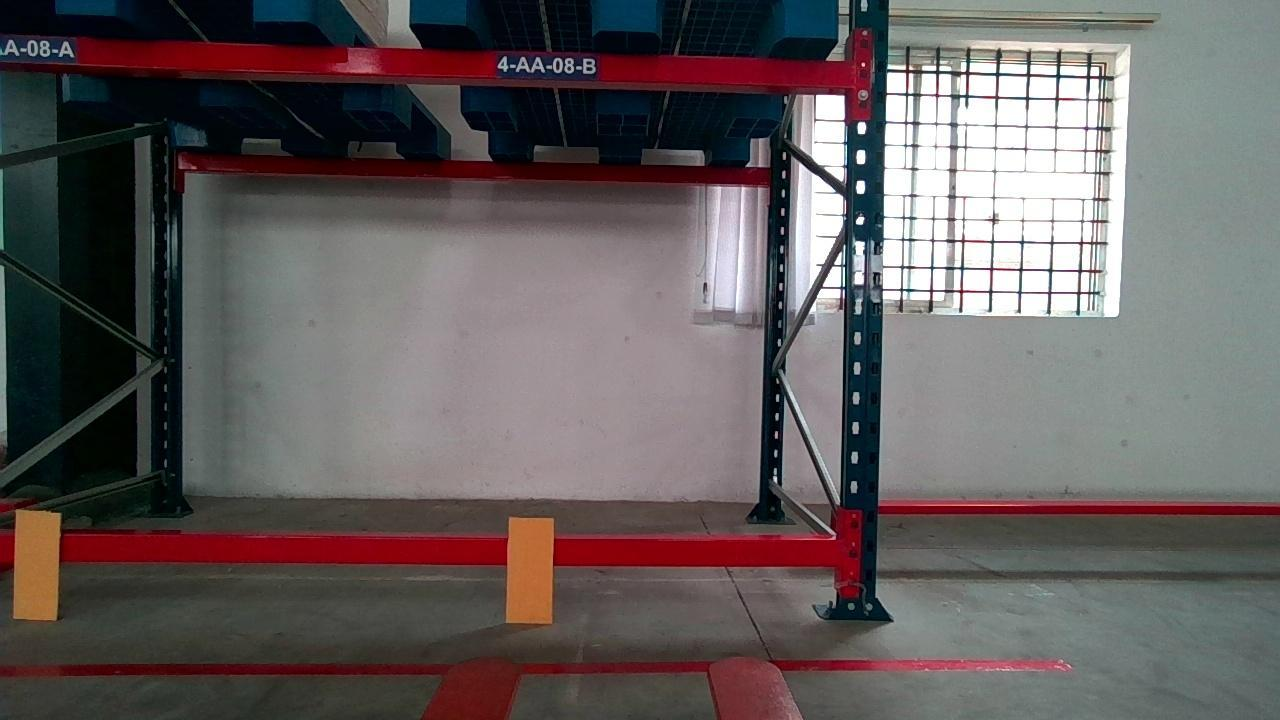h_rack: (1, 530, 839, 564)
orange_strip: (502, 515, 553, 625), (13, 507, 62, 619)
red_line: (2, 658, 1073, 678)
